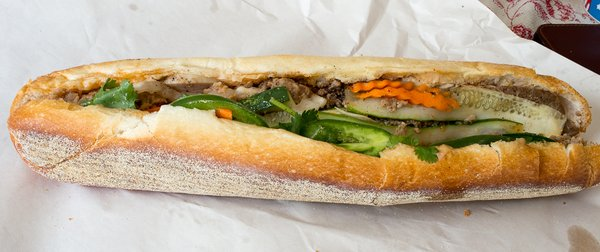soup: (15, 52, 599, 198)
